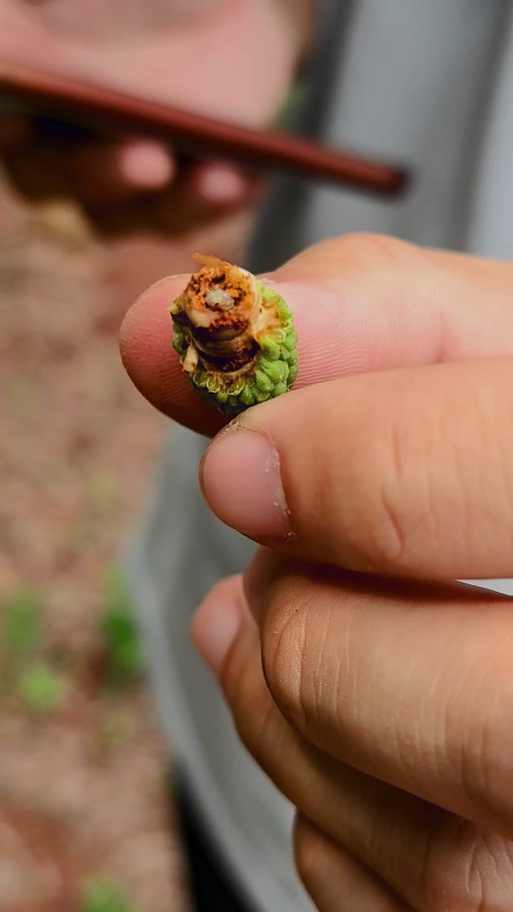Borer: (196, 269, 245, 331)
